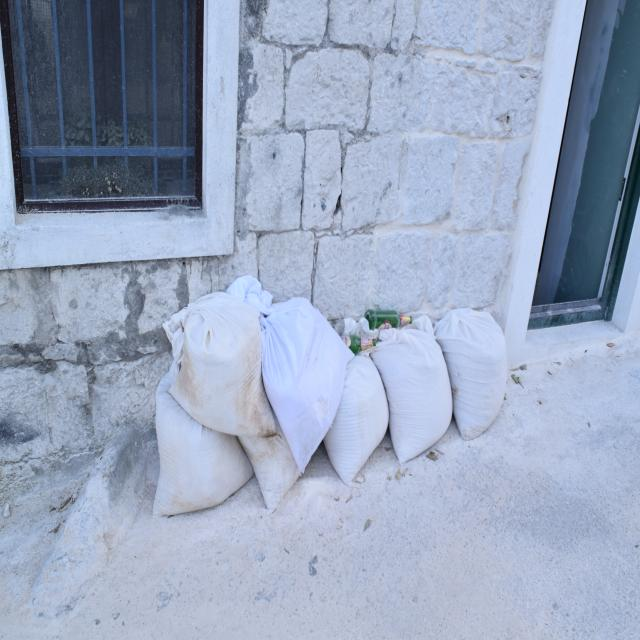entulho: (144, 275, 302, 522), (259, 292, 352, 454), (369, 316, 449, 467), (436, 307, 507, 443), (322, 340, 388, 485)
lixo domiciliar: (366, 308, 416, 332), (334, 332, 380, 353)
